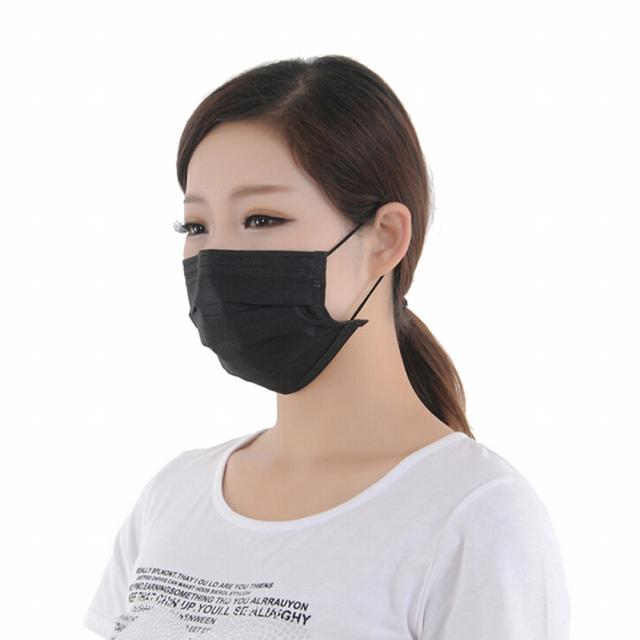1_mascarilla: (174, 250, 371, 398)
